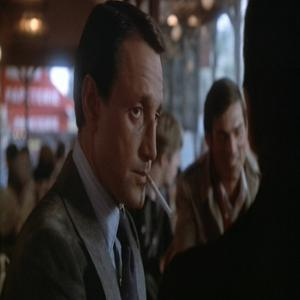cigarette: (146, 175, 175, 214)
